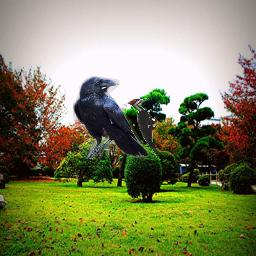Crow: (73, 76, 150, 159)
Woodpecker: (126, 98, 157, 158)
